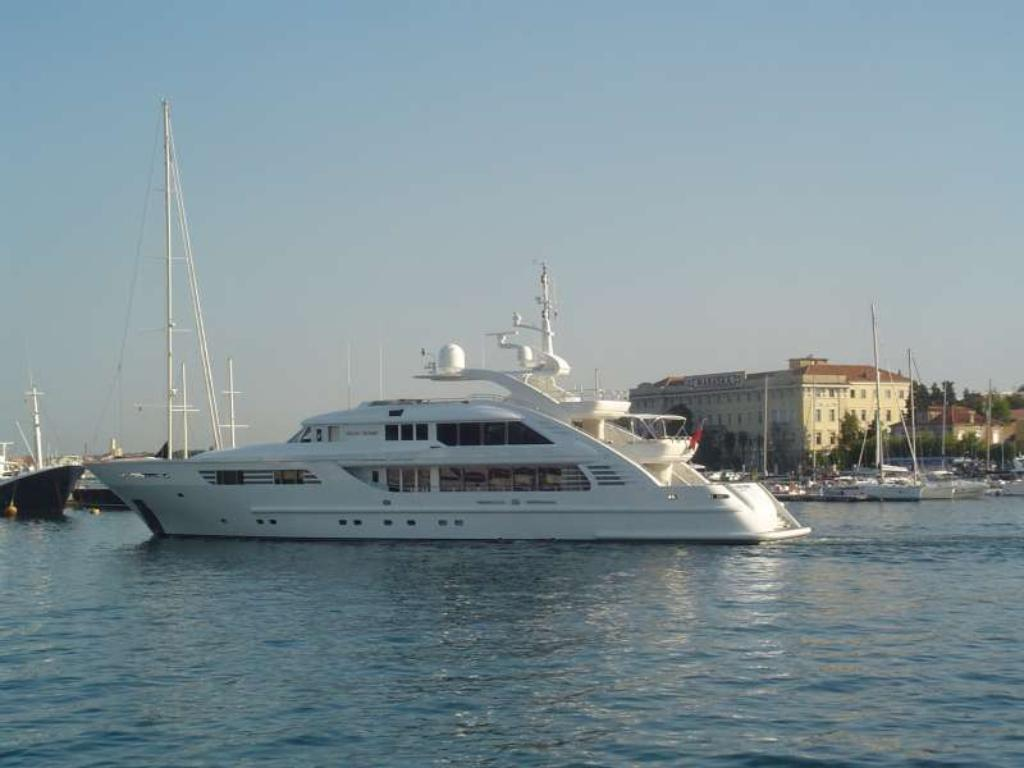PassengerShip: (77, 258, 821, 550), (0, 430, 92, 528)
